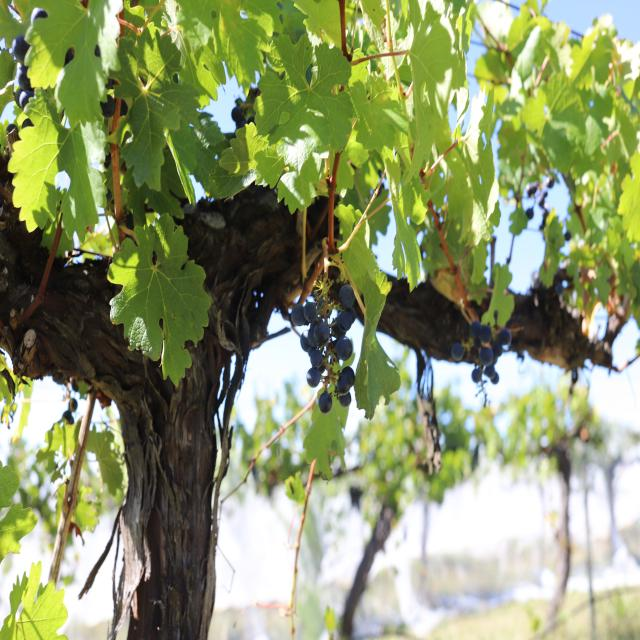grapes: (25, 0, 122, 127), (291, 279, 356, 413), (451, 320, 512, 384)
